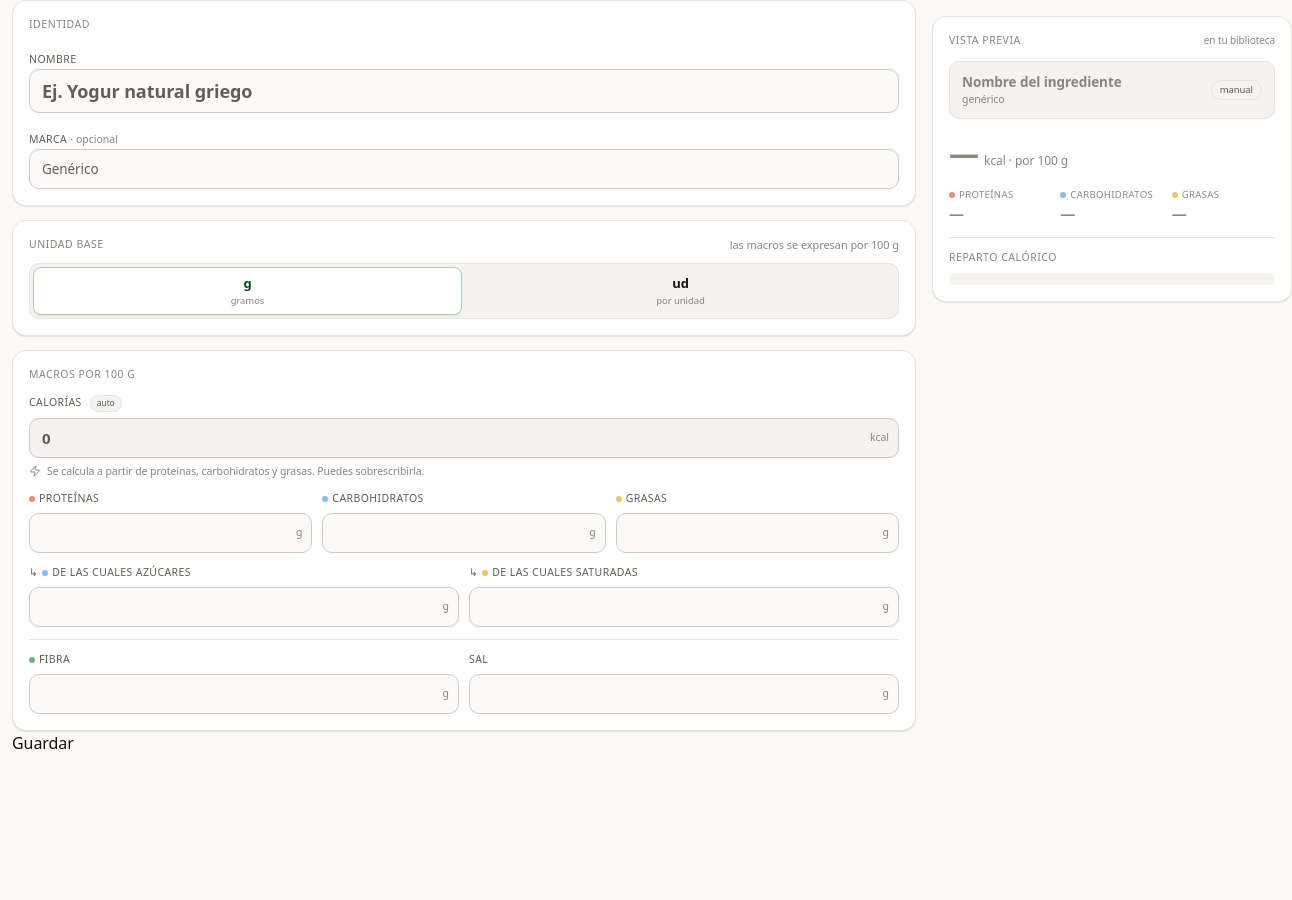
auto-kcal › flips to manual the moment the user types into kcal — the chip goes and auto stops overwriting
In the field labelled "Proteínas": (171, 533) left=29, top=513, right=312, bottom=553, type "10"
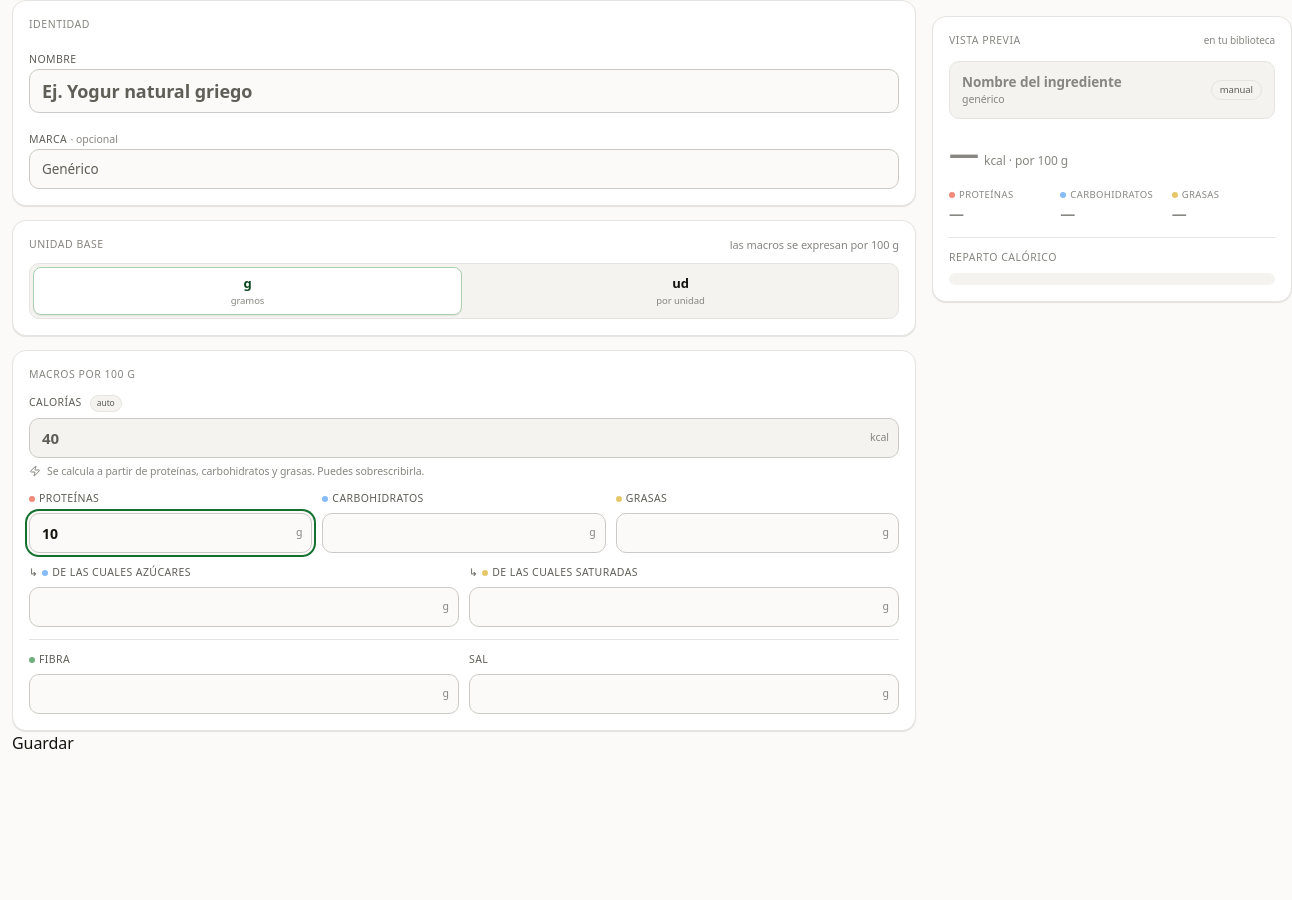
In the field labelled "Carbohidratos": (464, 533) left=322, top=513, right=606, bottom=553, type "20"
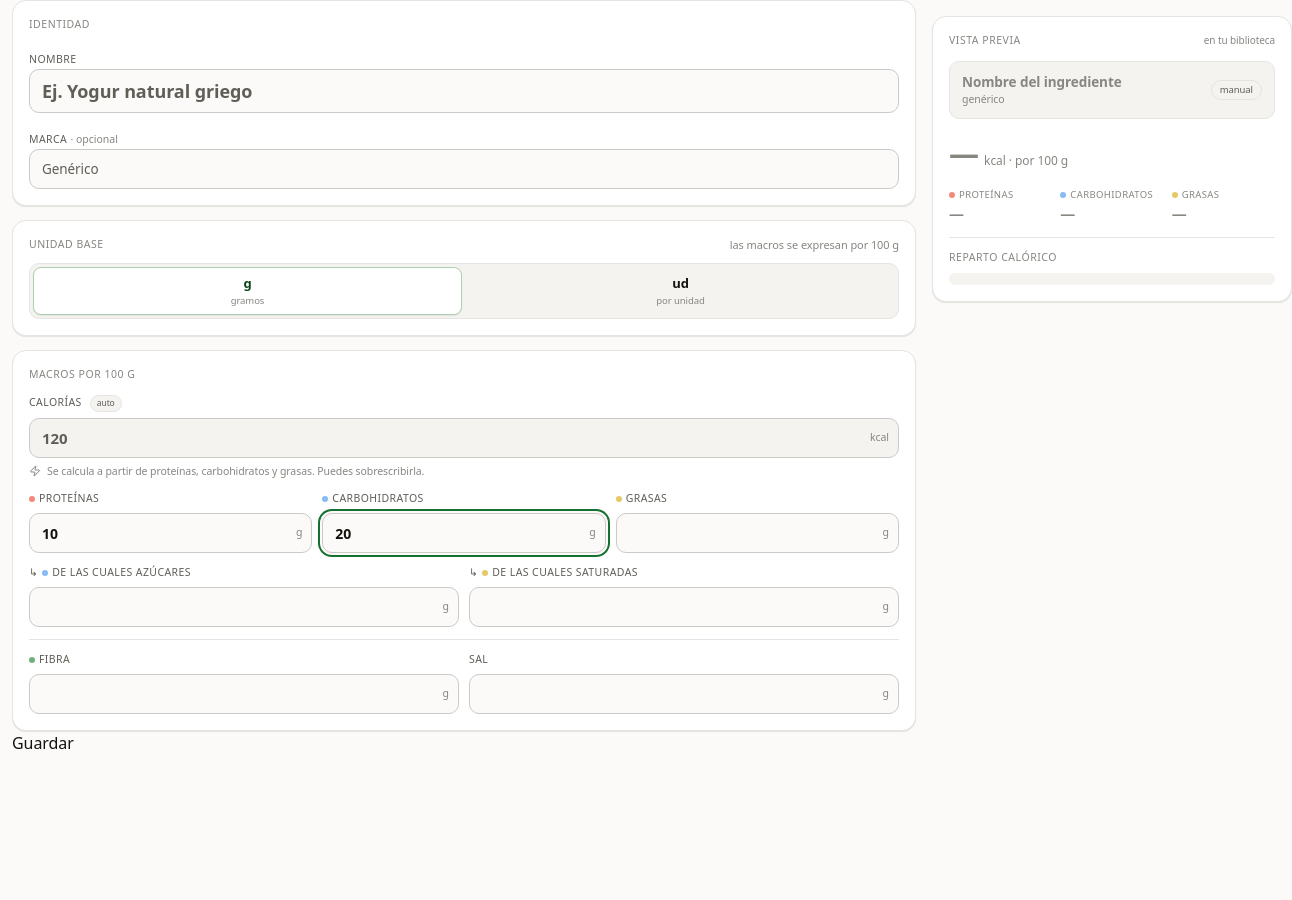
In the field labelled "Grasas": (757, 533) left=616, top=513, right=899, bottom=553, type "5"
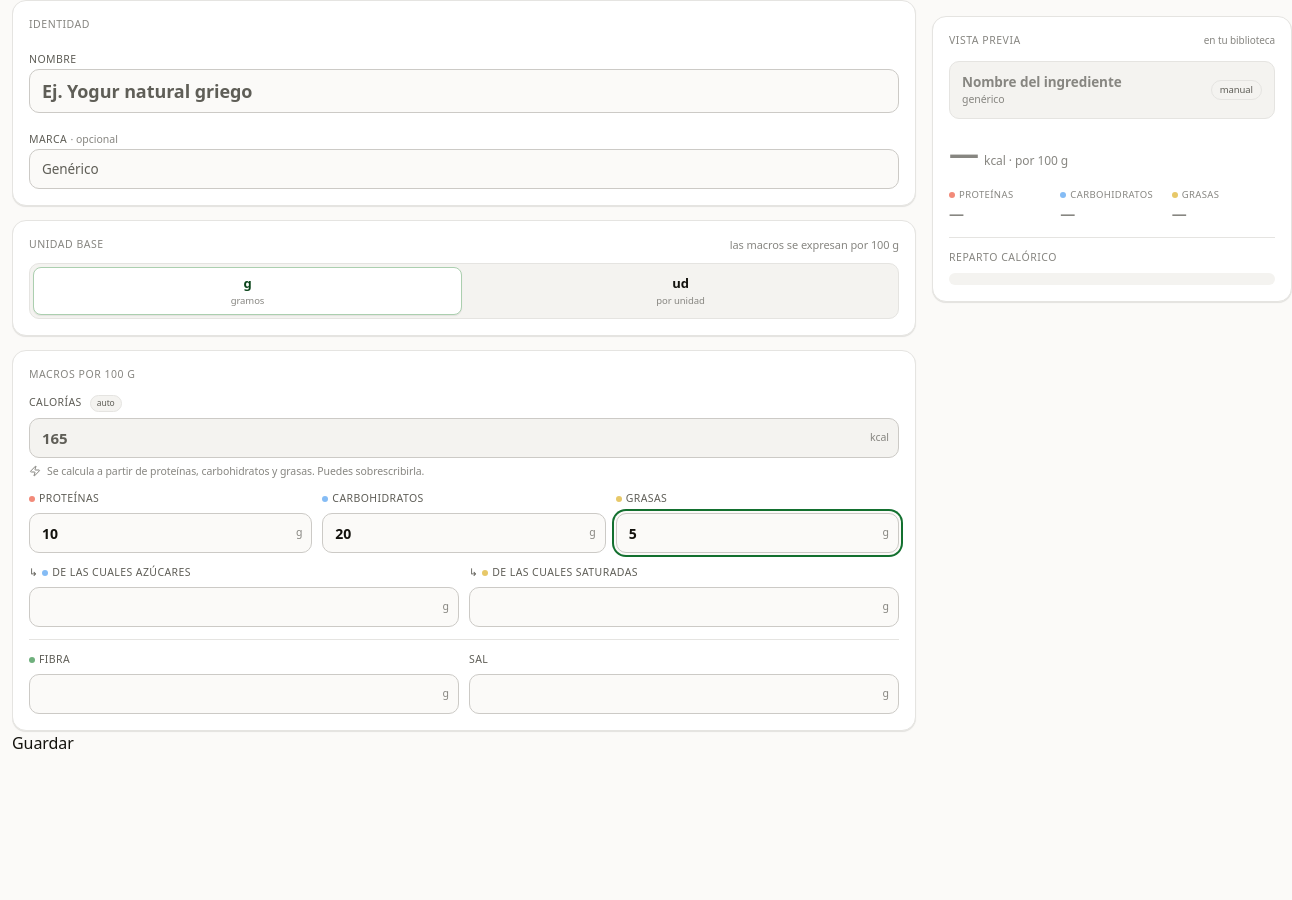
Expected: the field labelled "Calorías" holds "165"
Clear the field labelled "Calorías": (464, 438) left=29, top=418, right=899, bottom=458
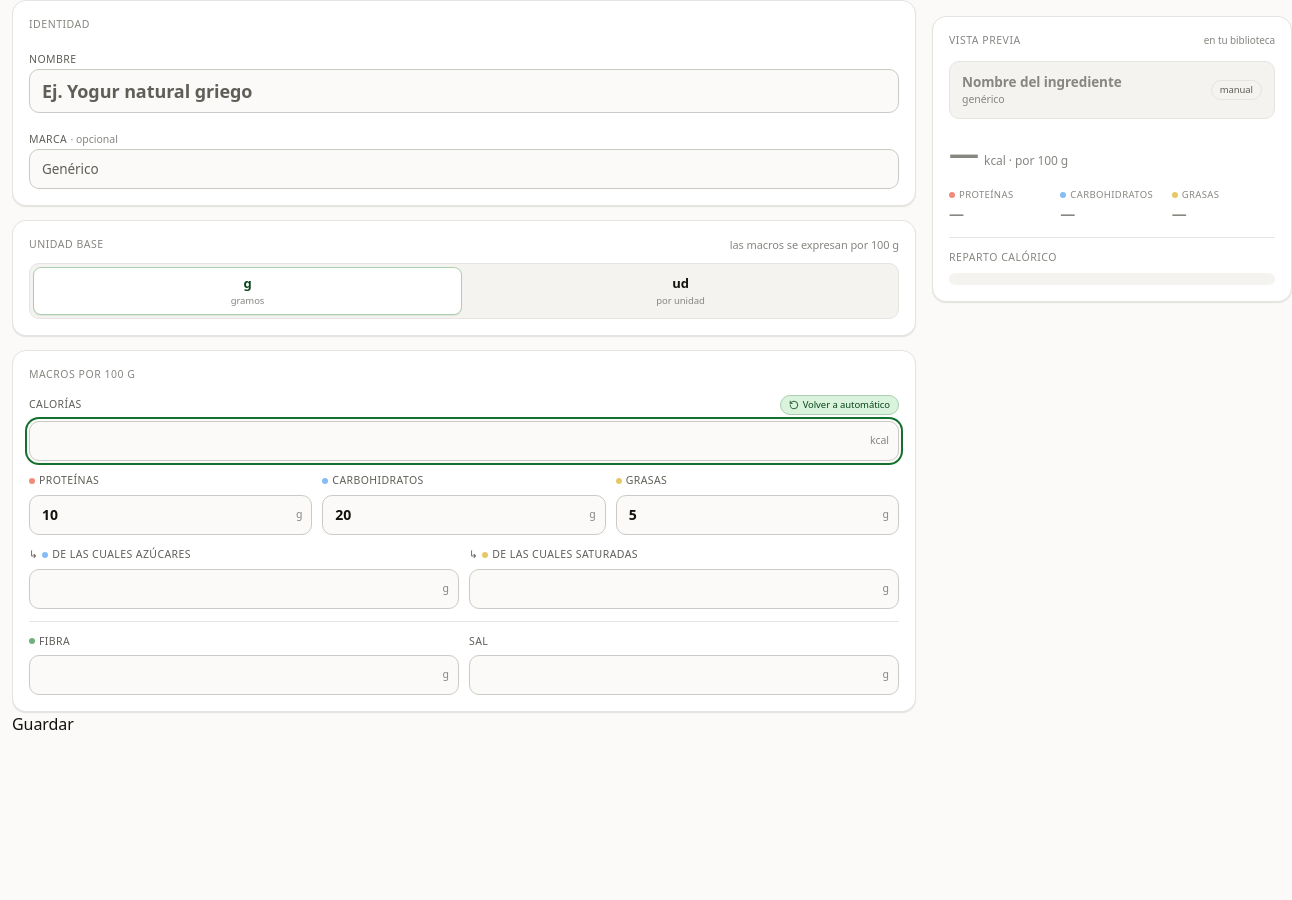
In the field labelled "Calorías": (464, 441) left=29, top=421, right=899, bottom=461, type "200"
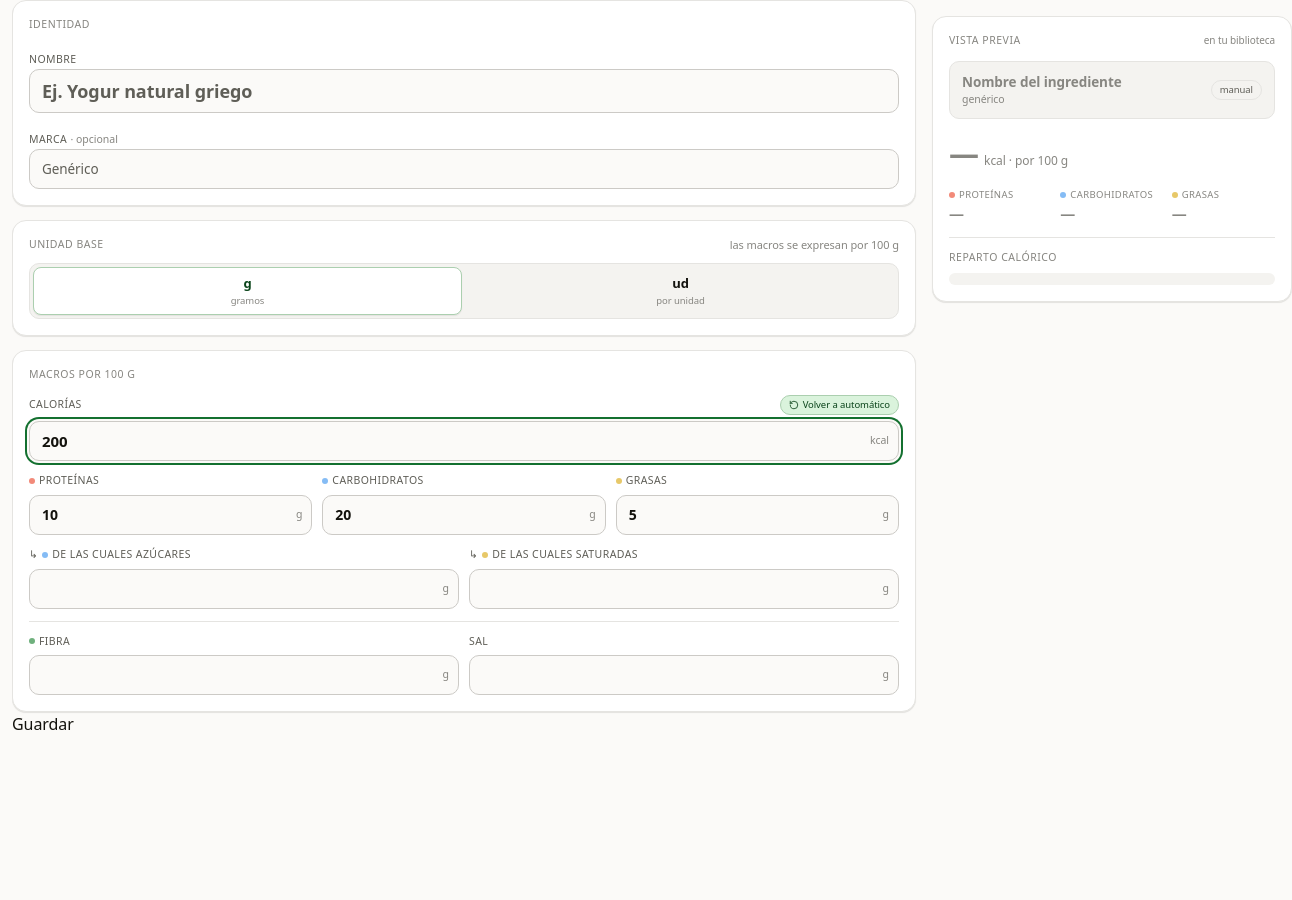
In the field labelled "Proteínas": (171, 515) left=29, top=495, right=312, bottom=535, type "5"
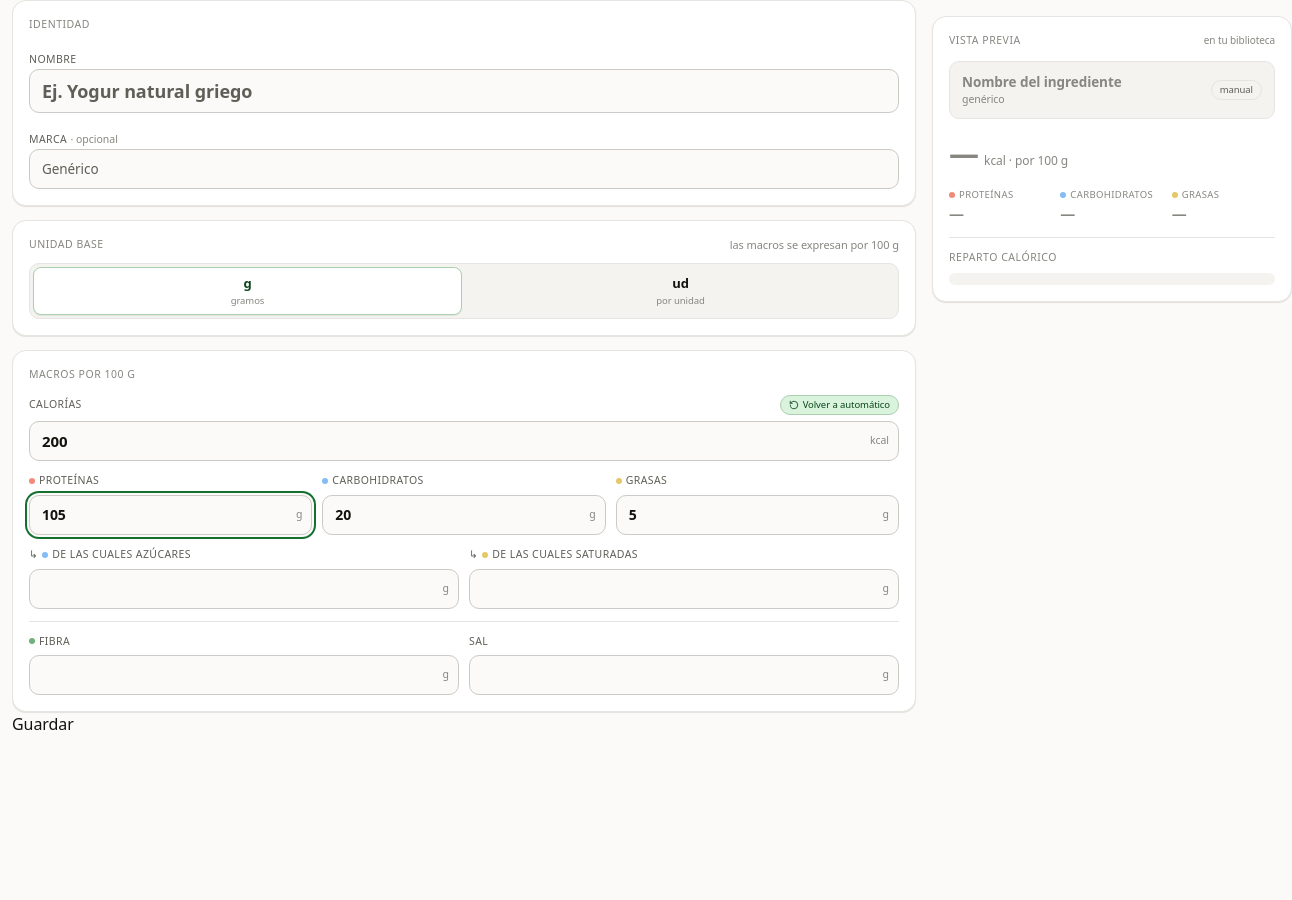
Expected: the field labelled "Proteínas" holds "105", left=29, top=495, right=312, bottom=535
